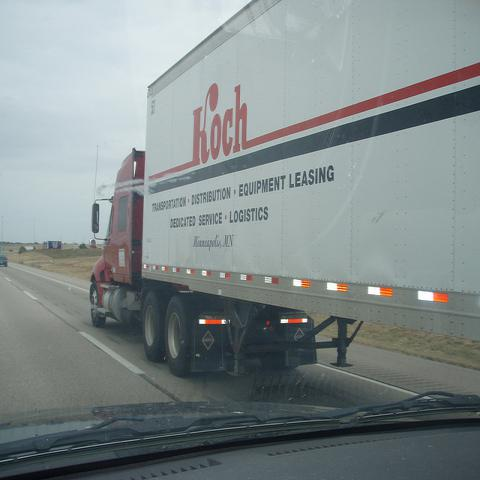car: (1, 253, 8, 267)
truck: (86, 1, 478, 372)
